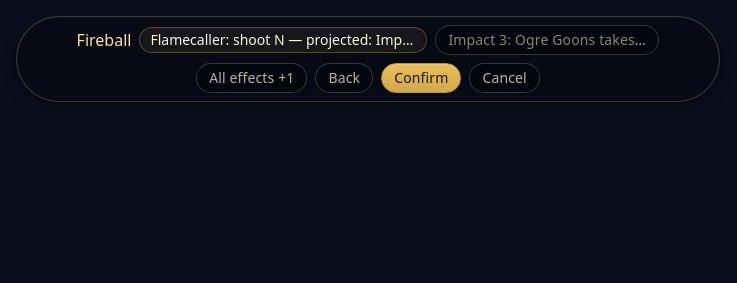
CPU assist bar: projectile decisions › Fireball: units sharing the impact tile are clicked as their cards; the option list only opens on request
The image size is (737, 283).
Step 1. Click the button "Impact 3: Ogre Goons takes 4: Ogre Goons (enemy) at Tile #8" → (547, 40), box [435, 25, 659, 55]
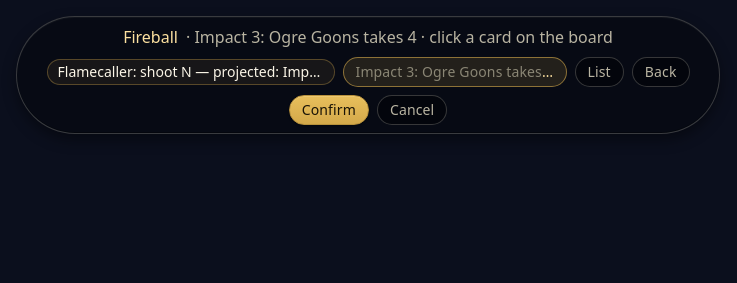
Expected: the text "· Impact 3: Ogre Goons takes 4 · click a card on the board" is shown, [186, 25, 613, 49]
The list stays available for keyboard players, but never opens by itself.
Step 2. Click the button with aria-label "List the options" → (599, 72), box [574, 57, 624, 87]
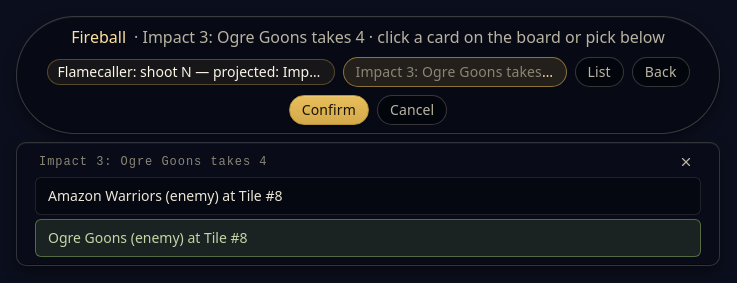
Expected: the buttons "at Tile #8" read "Amazon Warriors (enemy) at Tile #8", "Ogre Goons (enemy) at Tile #8", in this order, [35, 177, 701, 215]; [35, 219, 701, 257]
